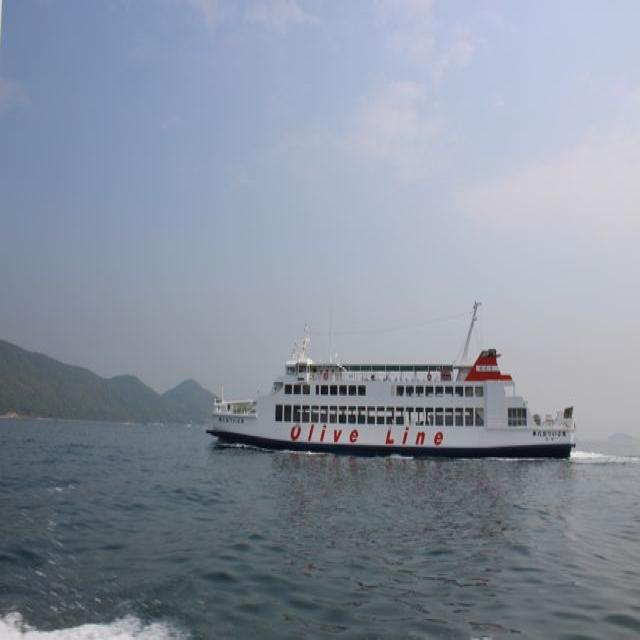passenger ship: (189, 319, 587, 474)
